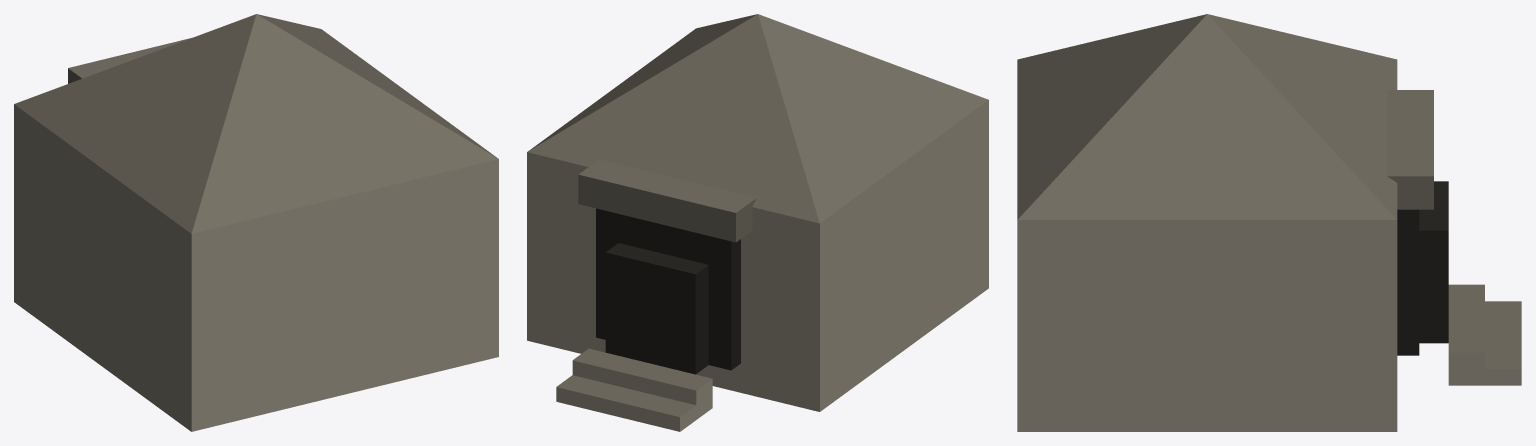
Rendered from terr_cave.glb.
The picture shows the model from 3 angles, left to right: view 1: azimuth 30°, elevation 25°; view 2: azimuth 150°, elevation 25°; view 3: azimuth 270°, elevation 25°; orthographic projection. The views are drawn at different scales.
Visible parts, largest first — view 1: terr_cave; view 2: terr_cave; view 3: terr_cave.
Boxes of the visible parts, x1,y1,x2,y2 form: terr_cave: [14, 14, 498, 431]; terr_cave: [527, 14, 988, 431]; terr_cave: [1017, 14, 1521, 431].
Size of the model in its own units: 1.04 by 1.02 by 1.38.
1 material, 1 textured.
